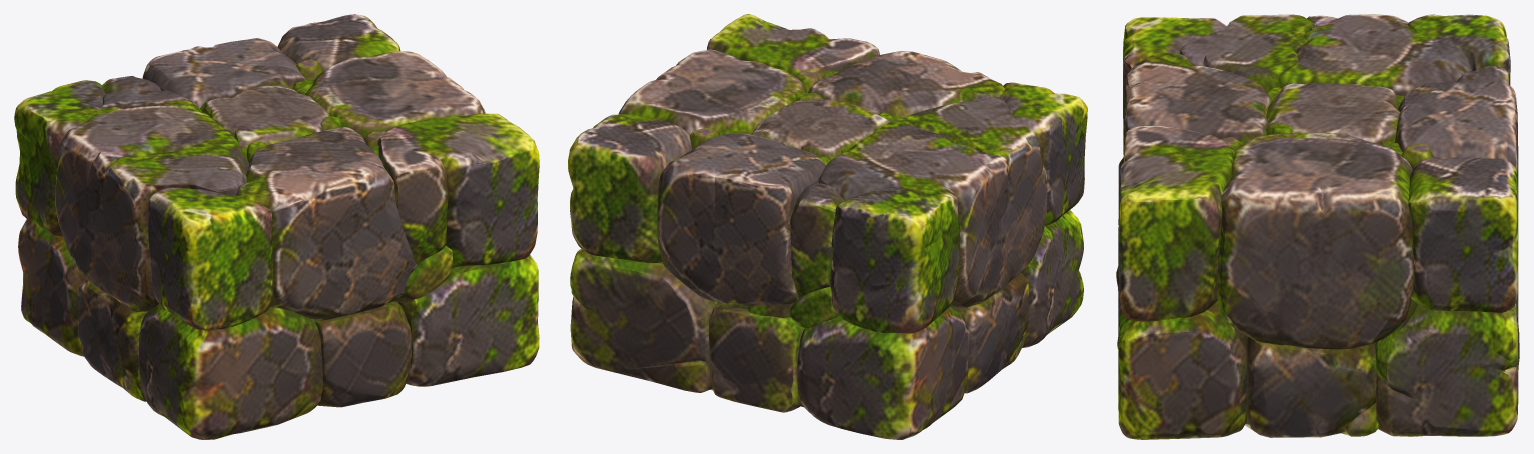
File: stone.glb
3 renders of one model, left to right at view 1: azimuth 30°, elevation 25°; view 2: azimuth 150°, elevation 25°; view 3: azimuth 270°, elevation 25°, orthographic. The views are drawn at different scales.
Size of the model in its own units: 1.9 by 1.16 by 1.71.
Materials: 1 (1 with a texture image).
